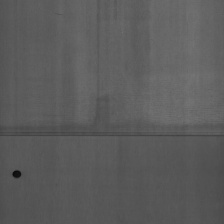punching_hole: (0, 126, 223, 143), (11, 167, 22, 181)
